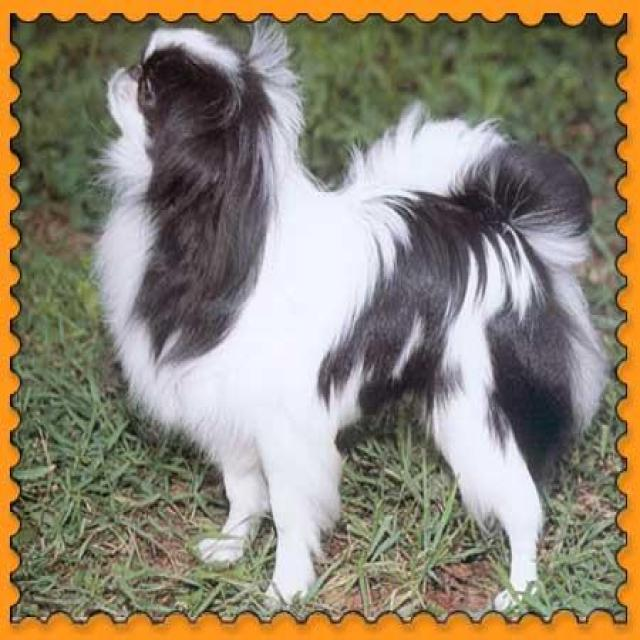husky: (83, 16, 610, 614)
